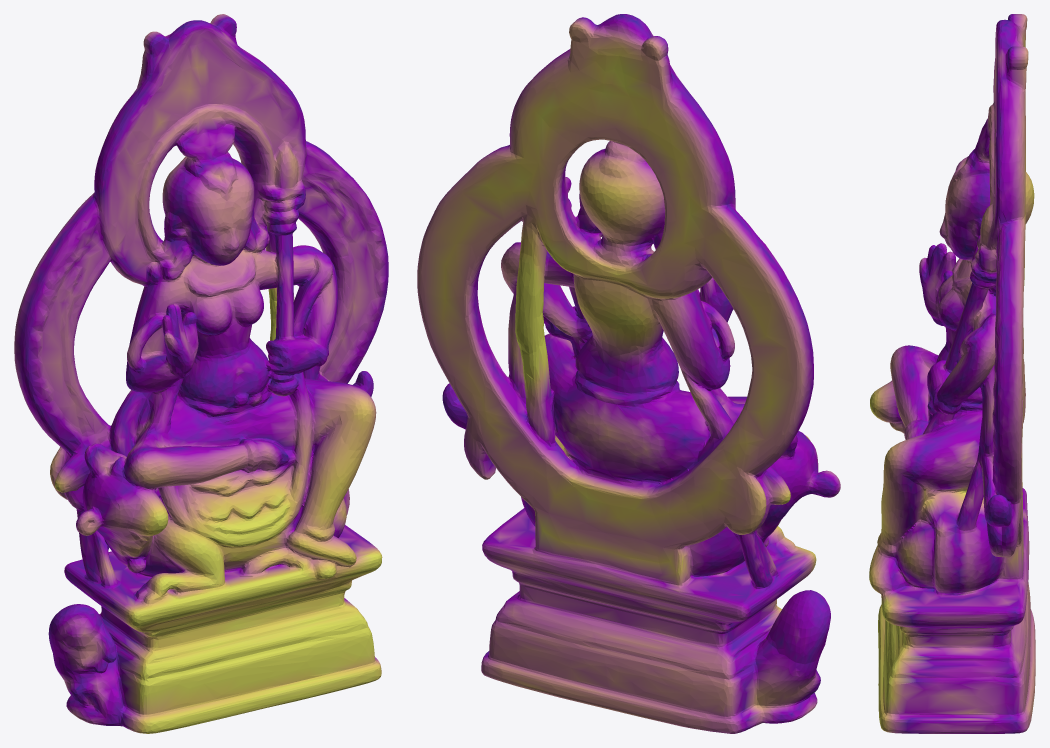
Rendered from iter_5.glb.
3 renders of one model, left to right at view 1: azimuth 30°, elevation 25°; view 2: azimuth 150°, elevation 25°; view 3: azimuth 270°, elevation 25°, orthographic. The views are drawn at different scales.
Visible parts, largest first — view 1: textured_mesh; view 2: textured_mesh; view 3: textured_mesh.
Part boxes in pixels (bbox=[...]): textured_mesh: bbox=[14, 14, 388, 733]; textured_mesh: bbox=[417, 14, 840, 733]; textured_mesh: bbox=[869, 14, 1035, 733].
Size of the model in its own units: 1.19 by 1.99 by 0.4628.
